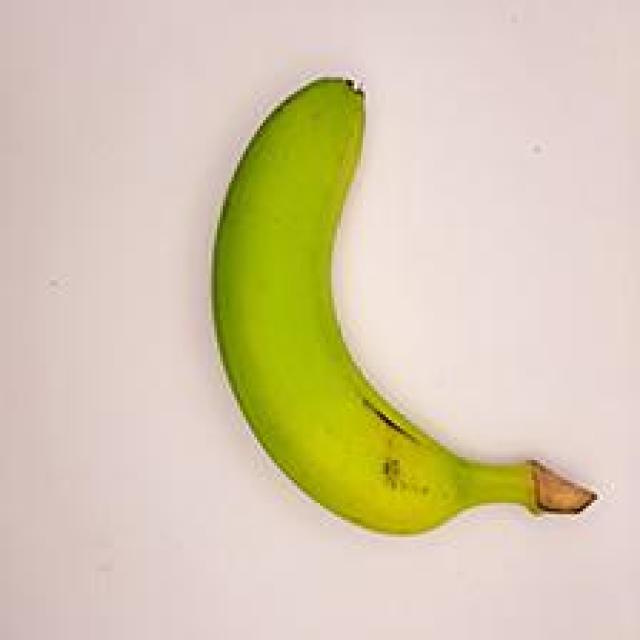Unripe: (174, 49, 599, 558)
